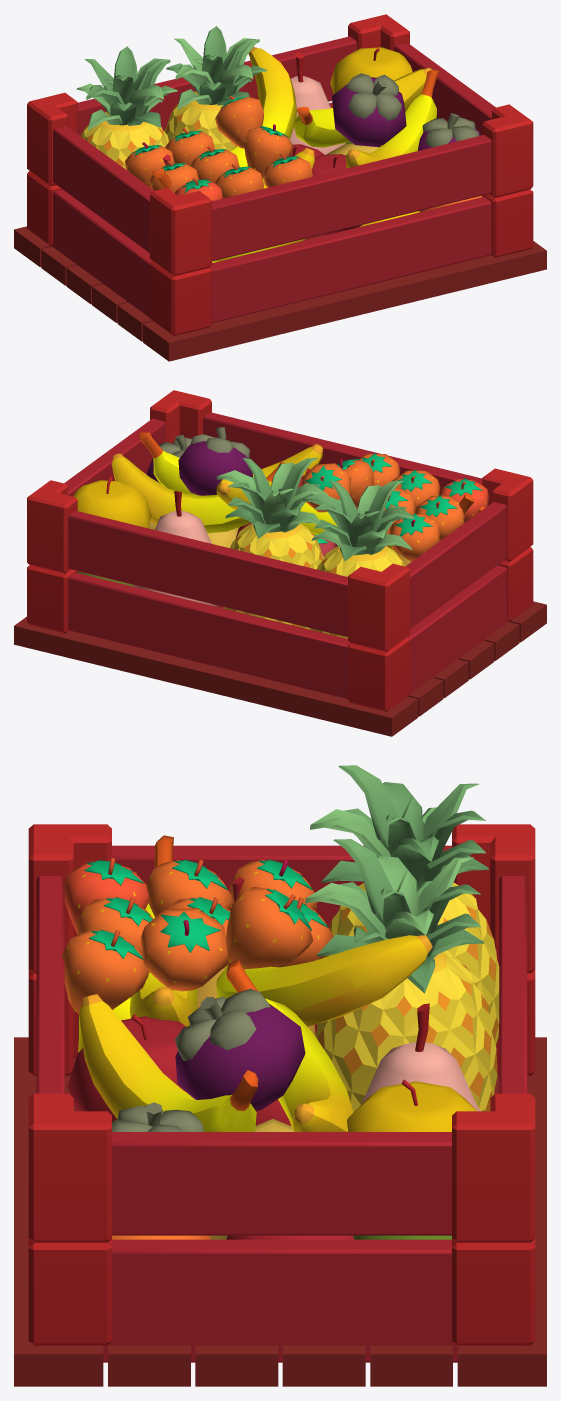
3 views of the same model, one above another, from view 1: azimuth 30°, elevation 25°; view 2: azimuth 150°, elevation 25°; view 3: azimuth 270°, elevation 25° (orthographic). The views are drawn at different scales.
Parts seen in each view (by area): view 1: thanh3, thanh_4, thanh_10, pineapple002, thanh_5, thanh_7, pineapple001, khung_7, mangosteen, thanh_1, khung_6, khung_4 (+27 smaller); view 2: thanh_2, thanh_1, thanh_9, pineapple001, thanh_5, pineapple002, thanh_7, khung_8, thanh_4, khung_1, khung_2, banana_2 (+25 smaller); view 3: thanh_8, thanh_6, pineapple001, pineapple002, khung_2, khung_4, mangosteen, banana_3, banana_4, khung_5, khung_3, thanh_10 (+27 smaller).
Part boxes in pixels (left/top/right/bottom): thanh3: left=209, top=196, right=491, bottom=322; thanh_4: left=212, top=135, right=491, bottom=261; thanh_10: left=143, top=241, right=546, bottom=361; pineapple002: left=76, top=46, right=177, bottom=169; thanh_5: left=53, top=126, right=154, bottom=252; thanh_7: left=51, top=189, right=152, bottom=317; pineapple001: left=164, top=26, right=267, bottom=151; khung_7: left=150, top=188, right=211, bottom=275; mangosteen: left=332, top=73, right=406, bottom=147; thanh_1: left=77, top=36, right=356, bottom=136; khung_6: left=150, top=261, right=211, bottom=335; khung_4: left=482, top=104, right=533, bottom=197; thanh_2: left=68, top=572, right=350, bottom=698; thanh_1: left=68, top=510, right=347, bottom=636; thanh_9: left=14, top=616, right=417, bottom=736; pineapple001: left=216, top=458, right=327, bottom=629; thanh_5: left=405, top=502, right=507, bottom=628; pineapple002: left=303, top=480, right=414, bottom=638; thanh_7: left=407, top=565, right=508, bottom=696; khung_8: left=348, top=563, right=409, bottom=651; thanh_4: left=203, top=412, right=482, bottom=495; khung_1: left=348, top=637, right=409, bottom=711; khung_2: left=27, top=480, right=77, bottom=573; banana_2: left=111, top=453, right=285, bottom=533; thanh_8: left=42, top=1239, right=521, bottom=1362; thanh_6: left=112, top=1132, right=451, bottom=1235; pineapple001: left=305, top=839, right=497, bottom=1111; pineapple002: left=310, top=765, right=499, bottom=1045; khung_2: left=452, top=1093, right=535, bottom=1242; khung_4: left=28, top=1093, right=111, bottom=1242; mangosteen: left=174, top=988, right=305, bottom=1111; banana_3: left=79, top=994, right=258, bottom=1131; banana_4: left=216, top=935, right=432, bottom=1026; khung_5: left=28, top=1238, right=111, bottom=1345; khung_3: left=452, top=1238, right=535, bottom=1345; thanh_10: left=14, top=1037, right=103, bottom=1386.
Bounding box in the file's own units: 12.54 × 6.39 × 8.9.
